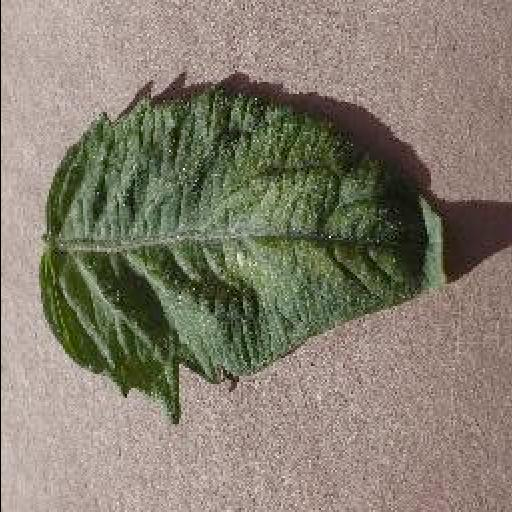disease_tomato: (38, 86, 448, 422)
